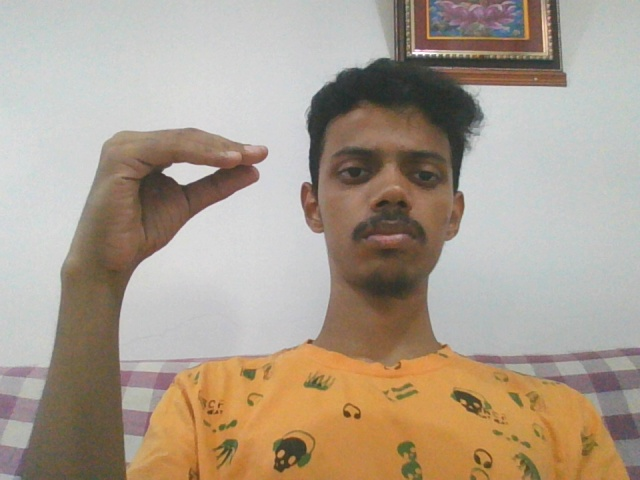No: (67, 128, 270, 255)
